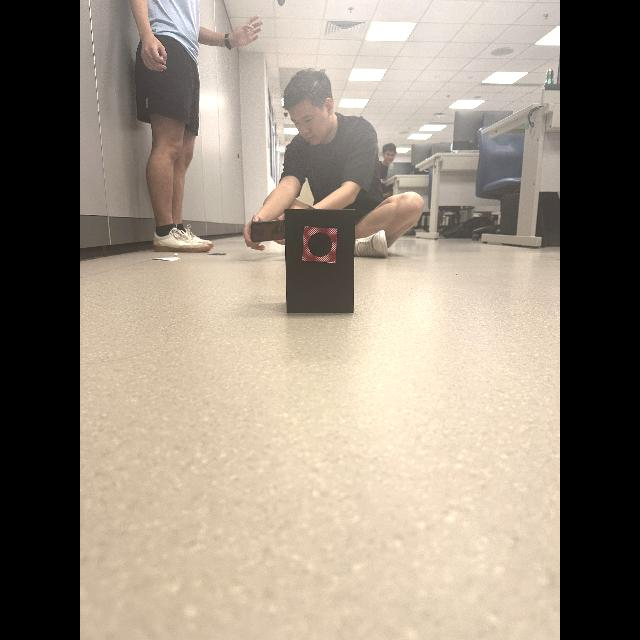CIRCLE: (308, 232, 332, 257)
